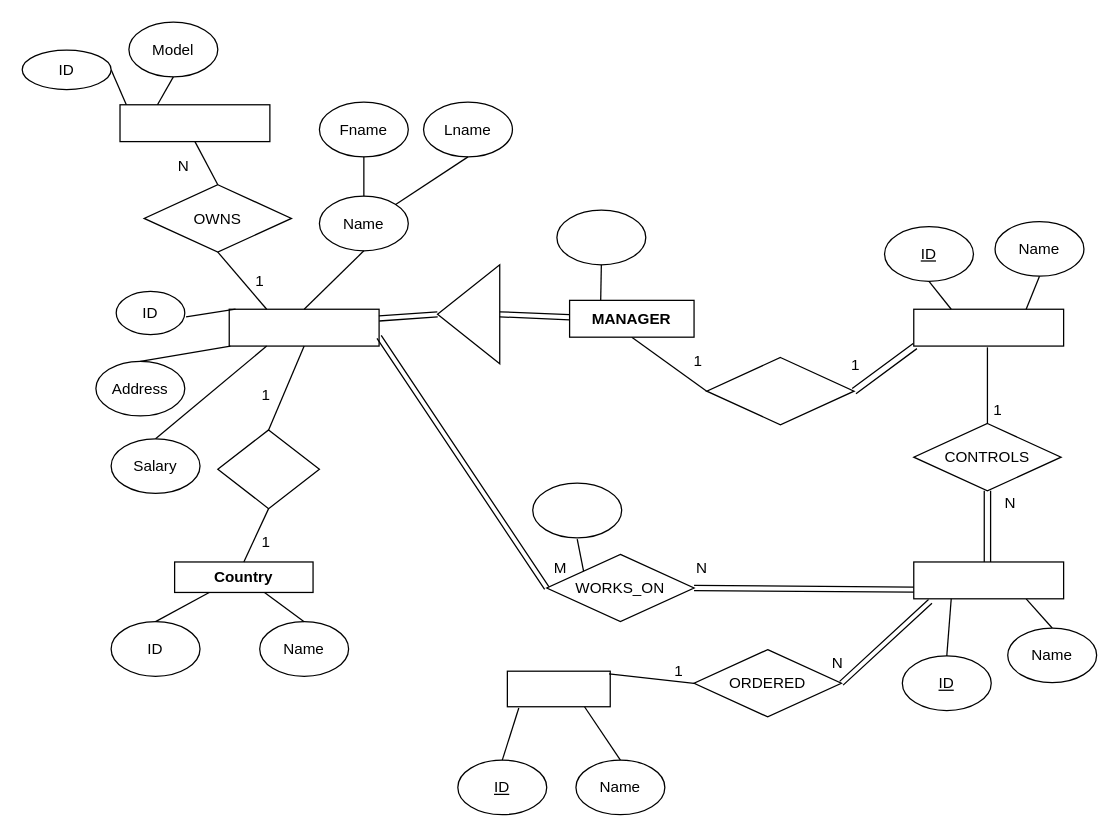
Image size: 1119x837. Some labels were removed from this diagram. The centre of each missing label's shape, as x and y in pixels:
Bonus: (601,237)
CLIENT: (558,688)
DEVICE: (194,123)
EMPLOYEE: (303,327)
Hours: (576,510)
ISA: (468,314)
LIVES_ON: (268,469)
MANAGES: (779,390)
PROJECT: (988,580)
TEAM: (988,327)
